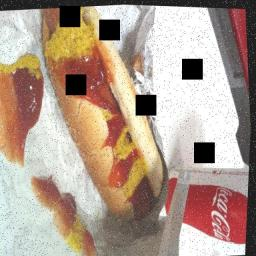hotdog: (27, 1, 144, 226)
